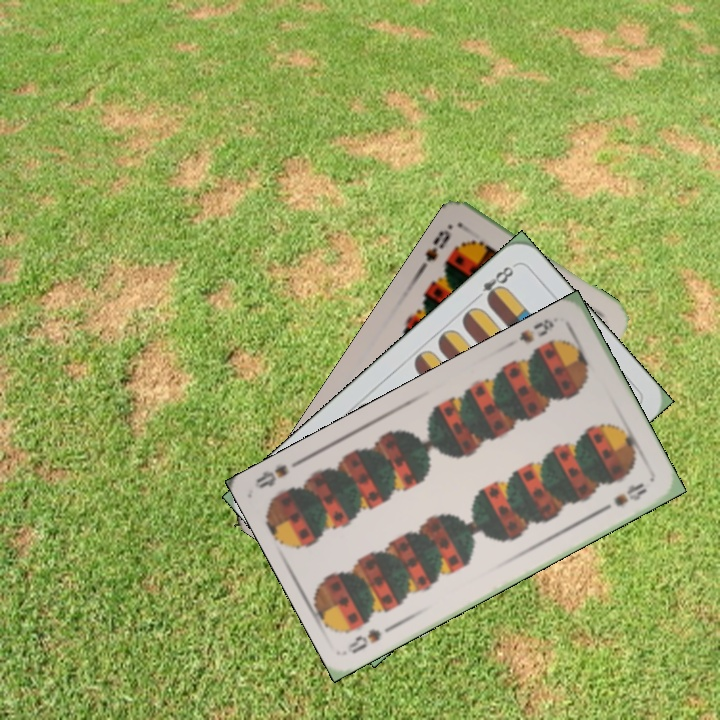E8: (469, 262, 516, 306)
S8: (344, 619, 400, 656), (514, 314, 557, 346), (421, 225, 453, 265)
